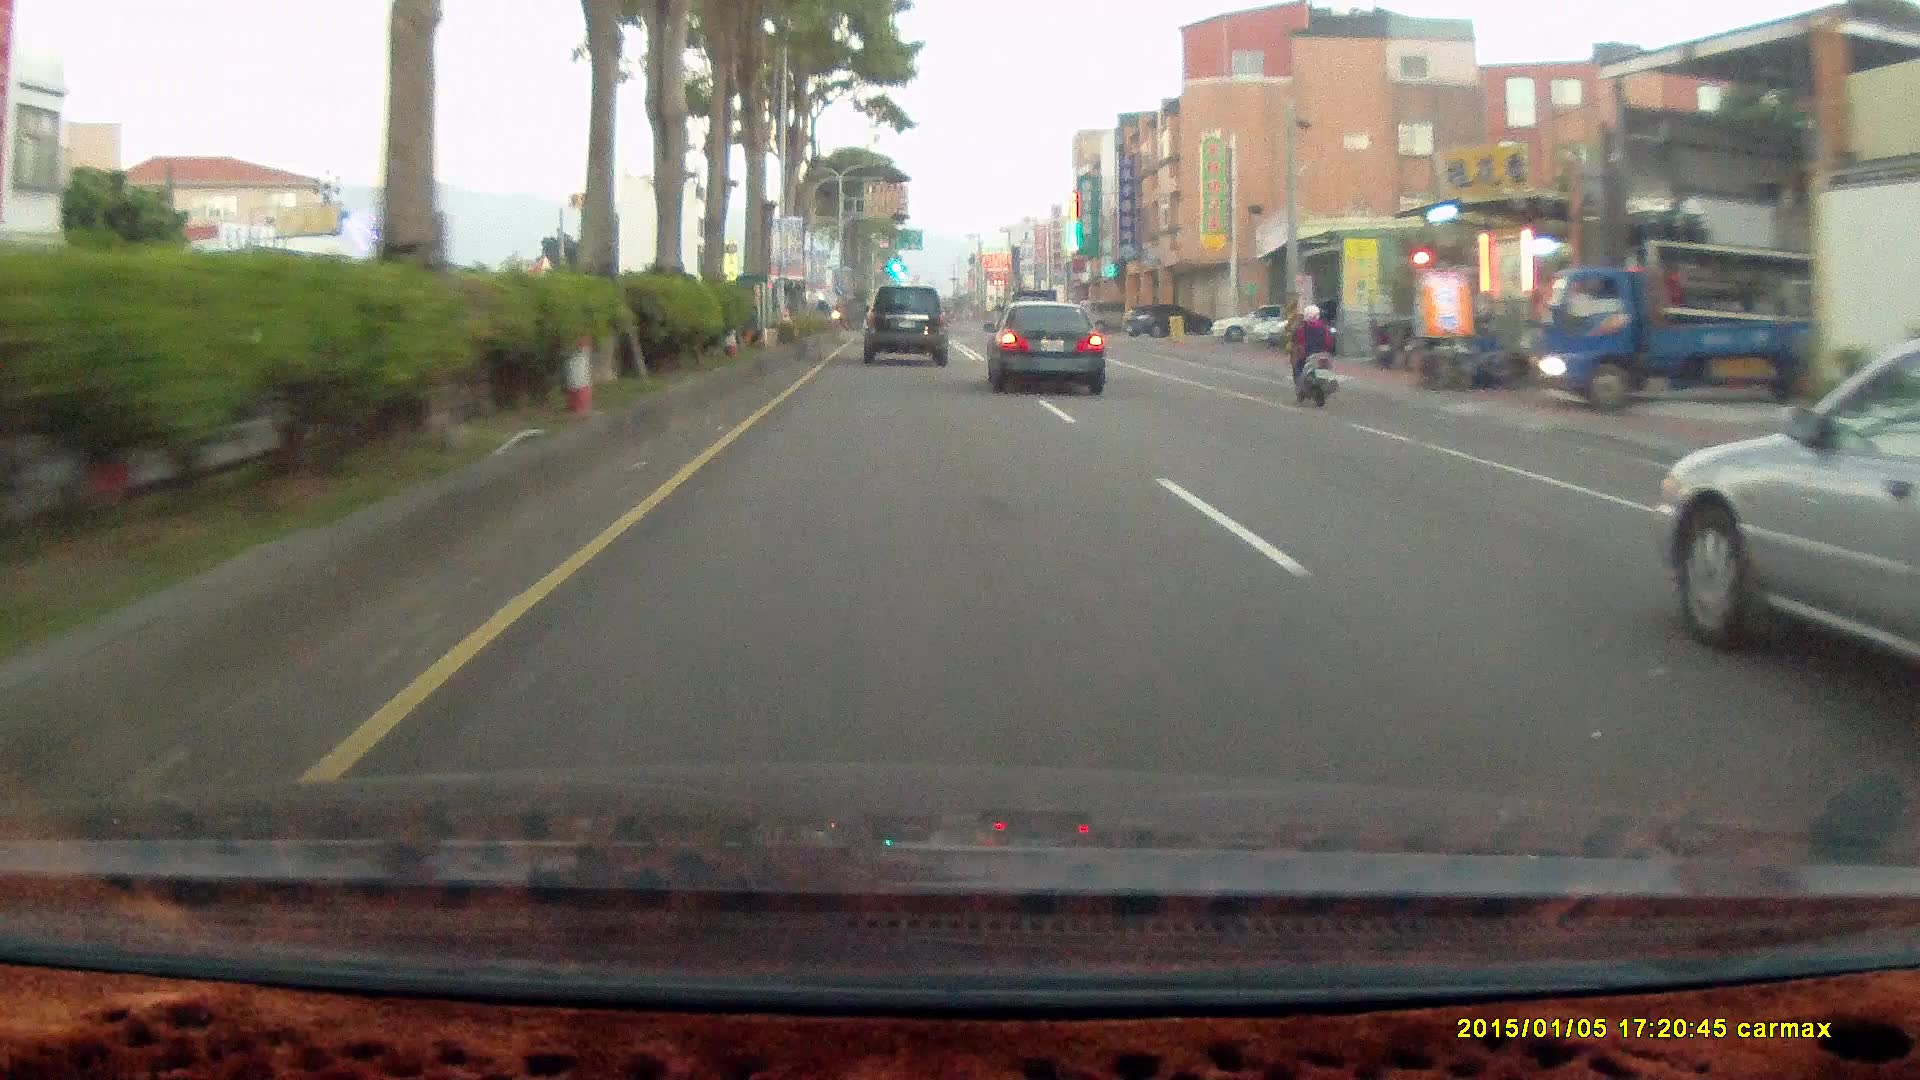rider: (1276, 292, 1353, 420), (1279, 300, 1338, 403)
vehicle: (1660, 342, 1920, 699), (1653, 344, 1919, 692), (1524, 236, 1833, 413), (1522, 267, 1865, 414), (989, 297, 1111, 394), (981, 299, 1106, 394), (868, 282, 953, 367), (861, 282, 948, 364), (1299, 296, 1408, 351), (1211, 303, 1314, 343), (1121, 303, 1212, 338), (1079, 296, 1145, 332)
